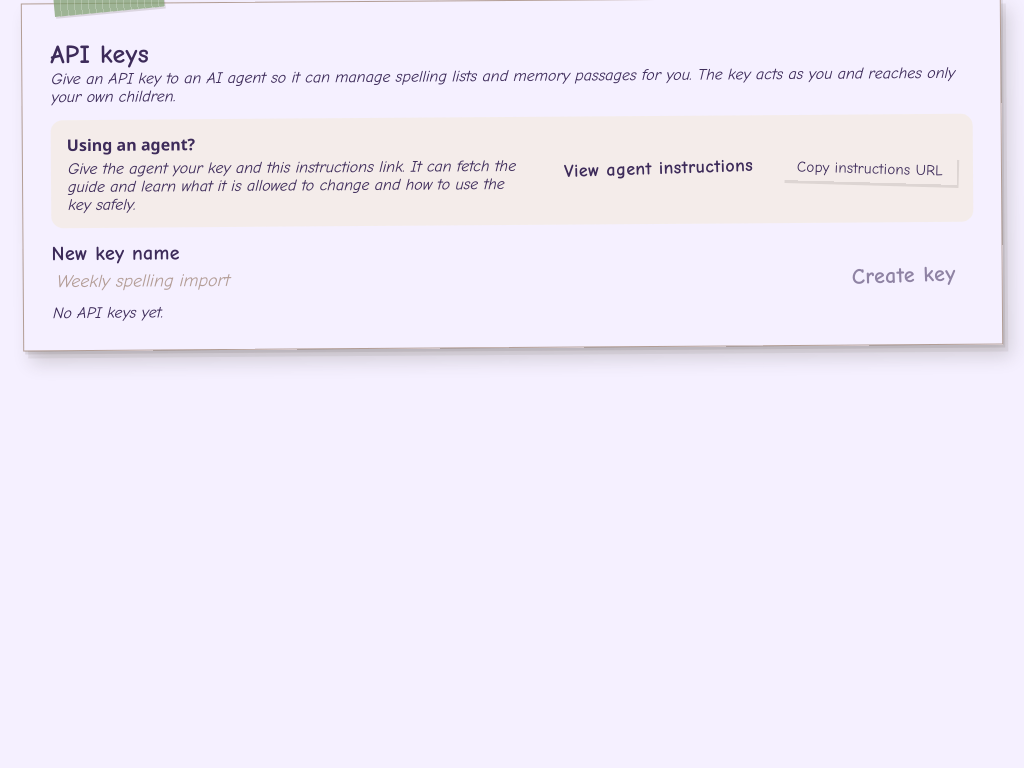
Scenario: creating a key › reveals the plaintext once and keeps it on screen
The image size is (1024, 768).
Type "Seed script" into the field labelled "New key name".
click(438, 280); type("Seed script")  # box top-left (52, 260), bottom-right (824, 300)
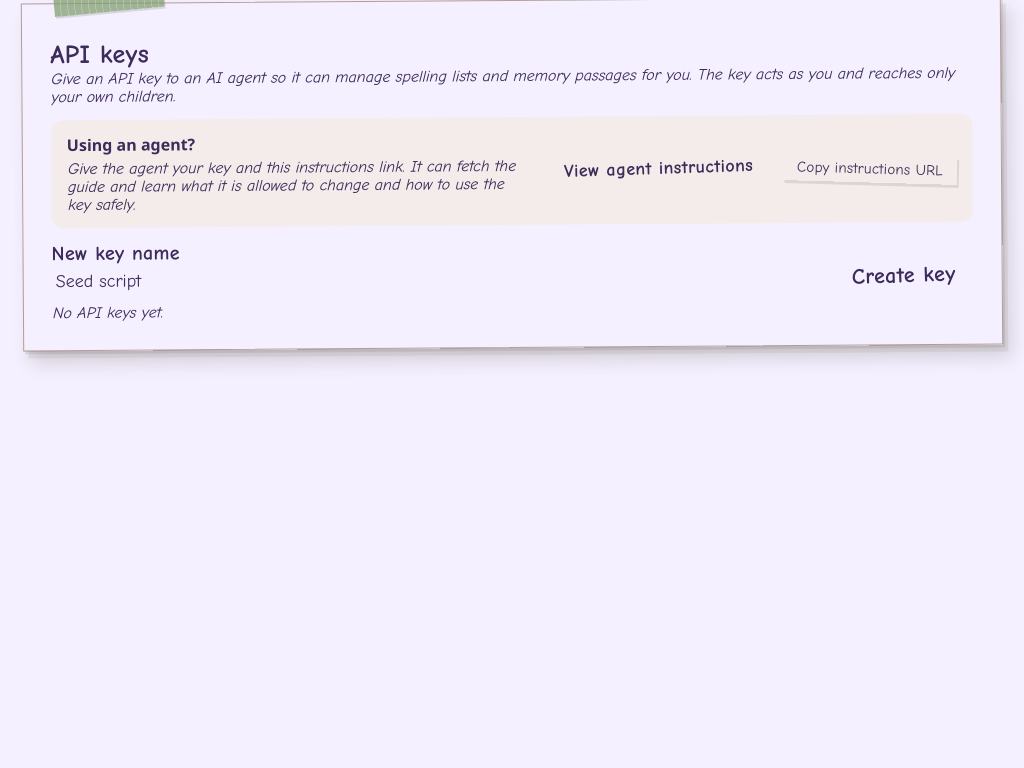
Click the button "Create key".
click(904, 277)  # box top-left (833, 257), bottom-right (974, 297)
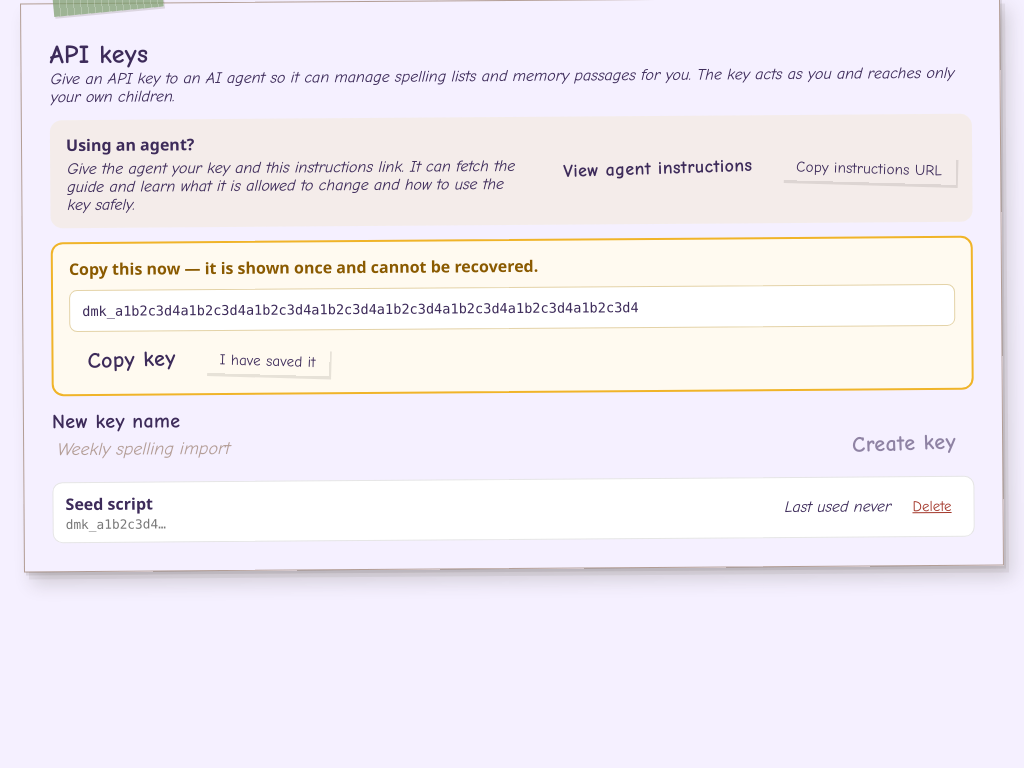
Expected: the text "Copy this now — it is shown once and cannot be recovered." is shown, top-left (69, 255), bottom-right (538, 280)
Expected: the text "Seed script" is shown, top-left (65, 492), bottom-right (153, 515)
